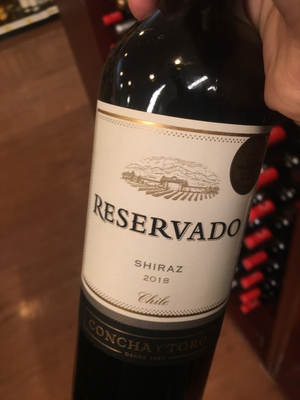reservado shiraz: (78, 22, 266, 400)
